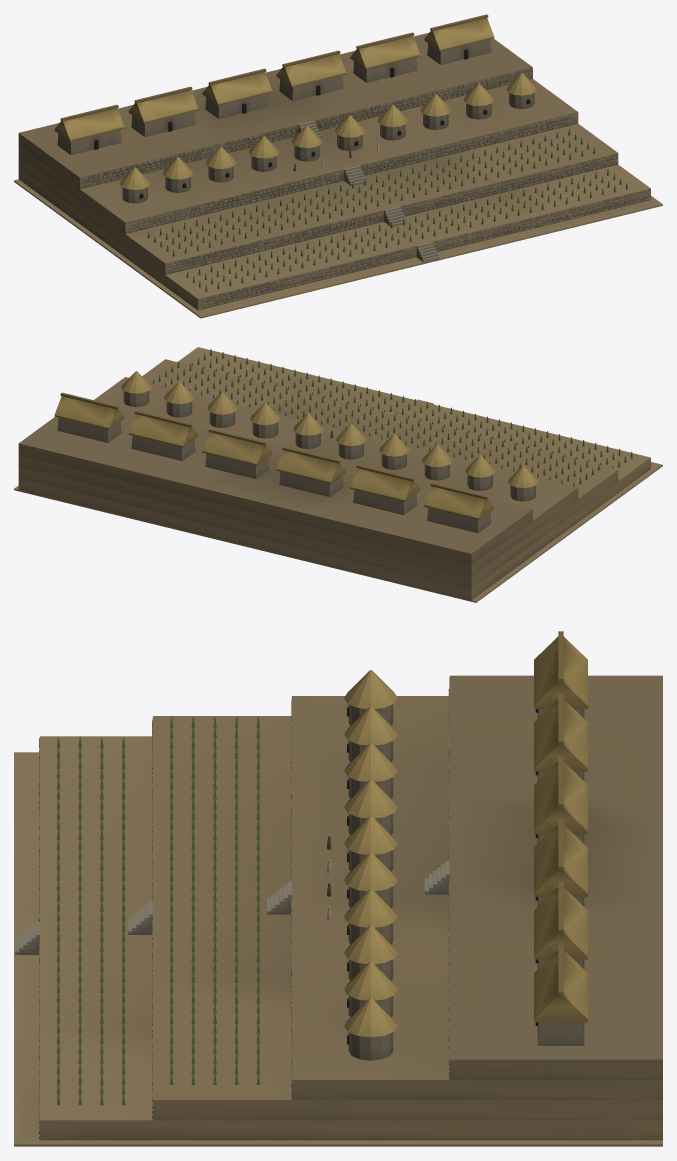
The model's file is qollqampata.glb.
The picture shows the model from 3 angles, top to bottom: view 1: azimuth 30°, elevation 25°; view 2: azimuth 150°, elevation 25°; view 3: azimuth 270°, elevation 25°; orthographic projection. The views are drawn at different scales.
Parts seen in each view (by area): view 1: p0_terraces, p1_storehouses, p2_roofs; view 2: p0_terraces, p2_roofs, p1_storehouses; view 3: p0_terraces, p2_roofs, p1_storehouses.
Part boxes in pixels (x1,y1,x2,y2): p0_terraces: (14, 33, 662, 318); p1_storehouses: (57, 39, 628, 291); p2_roofs: (54, 14, 537, 189); p0_terraces: (14, 347, 662, 602); p2_roofs: (54, 371, 538, 519); p1_storehouses: (57, 349, 632, 533); p0_terraces: (14, 675, 662, 1146); p2_roofs: (344, 631, 587, 1037); p1_storehouses: (57, 704, 584, 1105).
Bounding box in the file's own units: 100 × 16.55 × 70.
